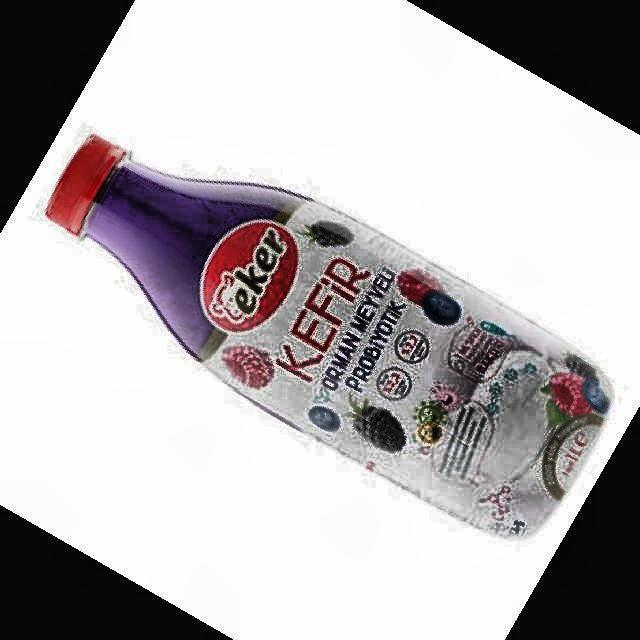plastic: (46, 135, 611, 537)
